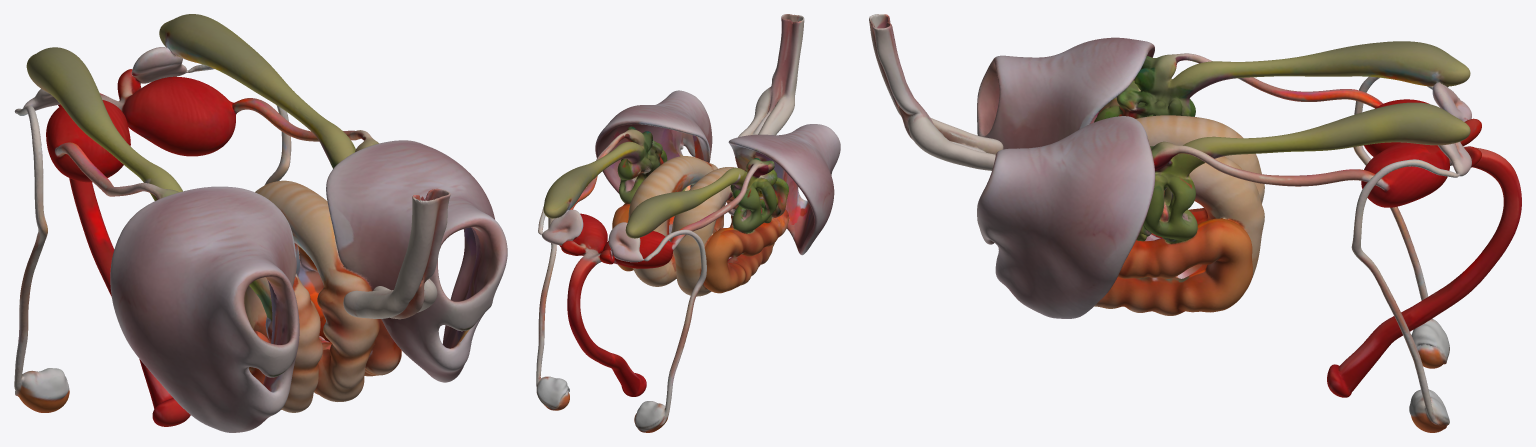
Rendered from sistema_organosinternos.glb.
The picture shows the model from 3 angles, left to right: view 1: azimuth 30°, elevation 25°; view 2: azimuth 150°, elevation 25°; view 3: azimuth 270°, elevation 25°; orthographic projection. The views are drawn at different scales.
Parts seen in each view (by area): view 1: tripo_node_c6b2b3a9-d95a-467e-9ced-84cd01e2acaf; view 2: tripo_node_c6b2b3a9-d95a-467e-9ced-84cd01e2acaf; view 3: tripo_node_c6b2b3a9-d95a-467e-9ced-84cd01e2acaf.
Part boxes in pixels (bbox=[...]): tripo_node_c6b2b3a9-d95a-467e-9ced-84cd01e2acaf: bbox=[14, 14, 507, 432]; tripo_node_c6b2b3a9-d95a-467e-9ced-84cd01e2acaf: bbox=[536, 14, 840, 432]; tripo_node_c6b2b3a9-d95a-467e-9ced-84cd01e2acaf: bbox=[869, 14, 1521, 432].
Size of the model in its own units: 0.5686 by 0.6396 by 1.
Materials: 1 (1 with a texture image).
